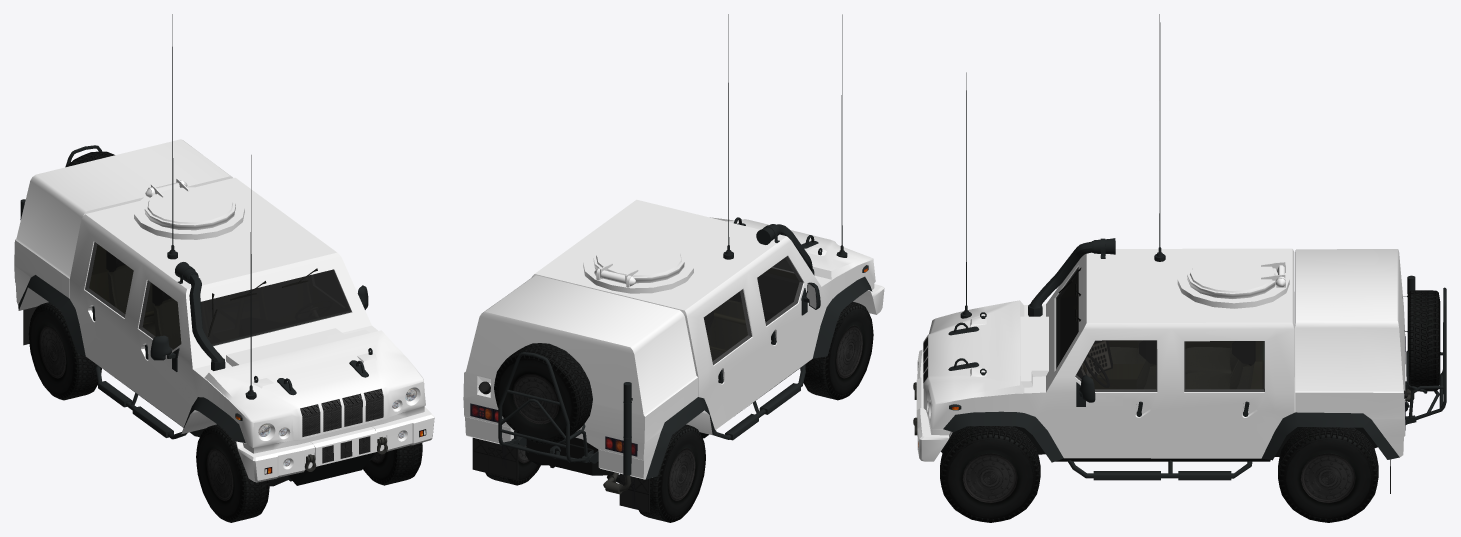
File: Car_1.fbx
3 views of the same model, side by side, from view 1: azimuth 30°, elevation 25°; view 2: azimuth 150°, elevation 25°; view 3: azimuth 270°, elevation 25° (orthographic).
Parts seen in each view (by area): view 1: Car_body, Window, Bumper_001, Wheel__front-right_, Wheel__rear-right_, Hatch_roof, Lining, Wheel__front-left_, Air_supply, Chassis, Car_seat_002, Car_seat_001 (+3 smaller); view 2: Car_body, Wheel__spare_, Wheel__front-right_, Window, Wheel__rear-right_, Hatch_roof, Lining, Spare_wheel_frame, Splash_guard, Car_seat_001, Dashboard, Exhaust_pipe (+7 smaller); view 3: Car_body, Window, Wheel__front-left_, Wheel__rear-left_, Lining, Hatch_roof, Wheel__spare_, Vehicle_interior, Step, Air_supply, Bumper_001, Chassis (+6 smaller).
Part boxes in pixels (x1,y1,x2,y2): Car_body: (14,139,425,453); Window: (85,242,351,350); Bumper_001: (236,407,434,482); Wheel__front-right_: (196,424,269,522); Wheel__rear-right_: (28,302,101,400); Hatch_roof: (144,178,235,230); Lining: (18,275,245,442); Wheel__front-left_: (363,443,422,485); Air_supply: (175,262,225,370); Chassis: (122,383,376,486); Car_seat_002: (107,251,154,335); Car_seat_001: (153,285,180,348); Car_body: (463,199,875,479); Wheel__spare_: (494,343,592,444); Wheel__front-right_: (800,302,873,400); Window: (703,256,803,365); Wheel__rear-right_: (638,424,705,522); Hatch_roof: (593,240,684,286); Lining: (645,276,872,479); Spare_wheel_frame: (498,352,598,463); Splash_guard: (472,437,649,512); Car_seat_001: (708,276,759,359); Dashboard: (759,273,798,321); Exhaust_pipe: (603,382,632,494); Car_body: (923,248,1405,458); Window: (1055,267,1264,391); Wheel__front-left_: (940,426,1040,522); Wheel__rear-left_: (1278,427,1378,522); Lining: (943,411,1399,462); Hatch_roof: (1187,254,1285,298); Wheel__spare_: (1408,290,1440,391); Vehicle_interior: (1091,341,1262,388); Step: (1067,460,1252,480); Air_supply: (1028,238,1115,316); Bumper_001: (916,349,952,461); Chassis: (941,426,1377,461).
Size of the model in its own units: 2.84 by 5.44 by 5.98.
